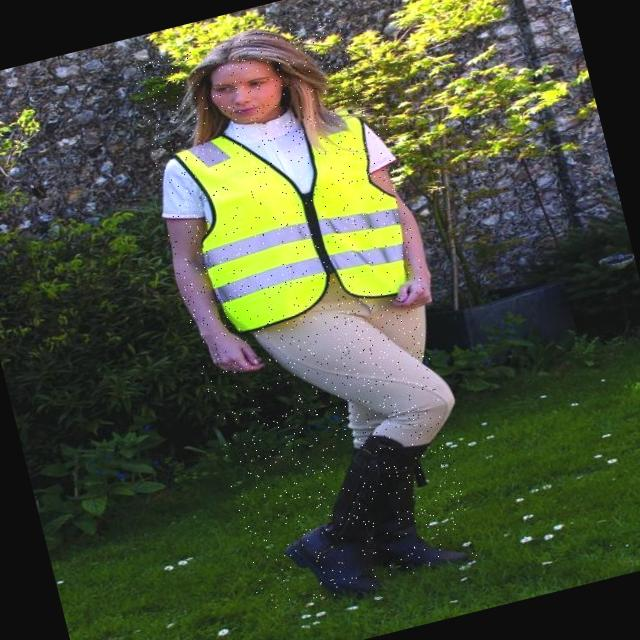vest: (164, 92, 427, 344)
